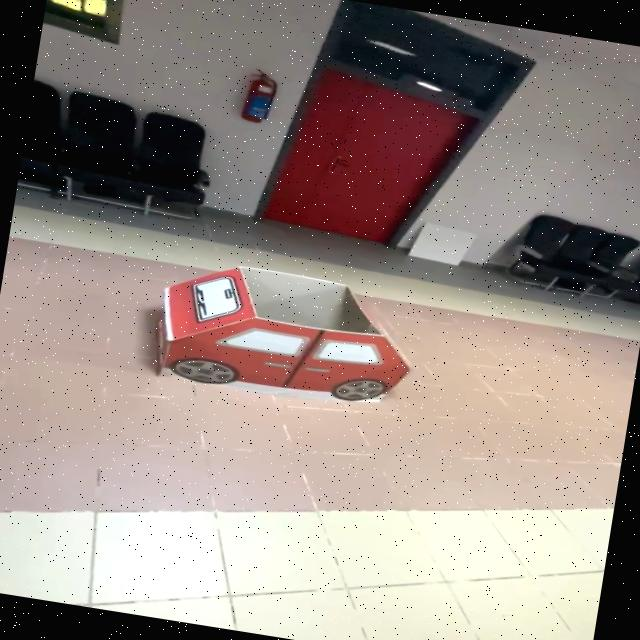red_car: (100, 228, 481, 436)
